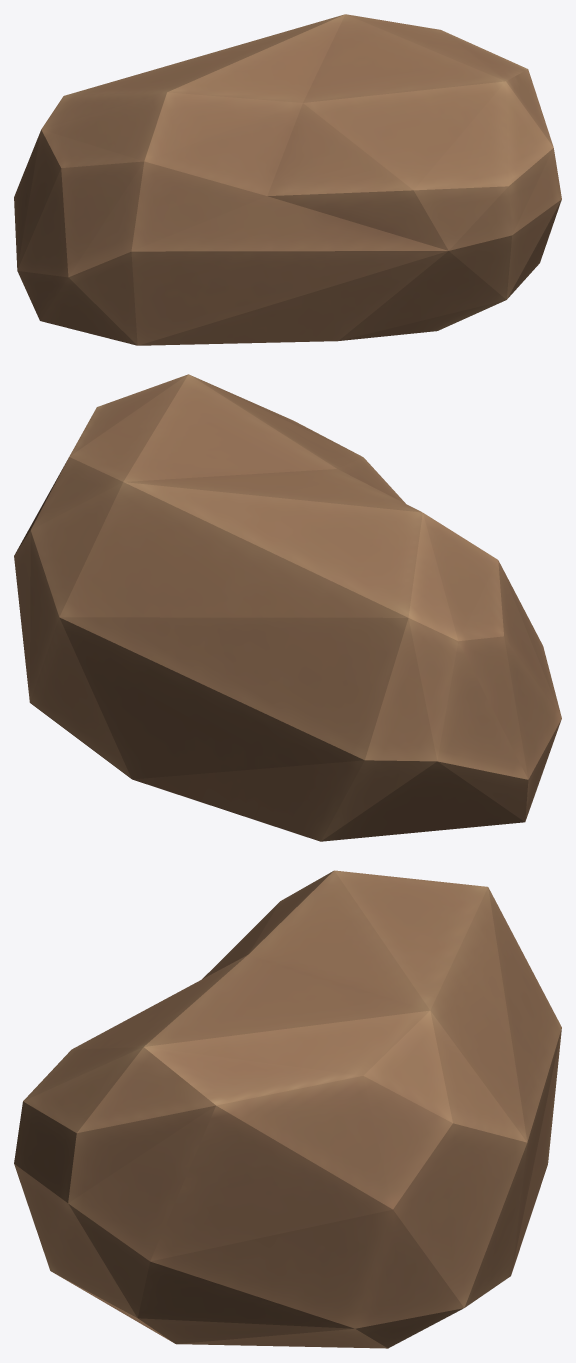
Rendered from Rock_13.fbx.
3 views of the same model, one above another, from view 1: azimuth 30°, elevation 25°; view 2: azimuth 150°, elevation 25°; view 3: azimuth 270°, elevation 25° (orthographic). The views are drawn at different scales.
Parts seen in each view (by area): view 1: Rock_13; view 2: Rock_13; view 3: Rock_13.
Boxes of the visible parts, x1,y1,x2,y2 form: Rock_13: [14, 14, 561, 345]; Rock_13: [14, 374, 561, 841]; Rock_13: [14, 870, 561, 1348].
Bounding box in the file's own units: 34.39 × 27.59 × 16.14.
1 material, 1 textured.
